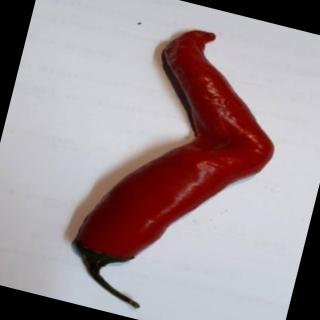Cabai Merah: (50, 11, 298, 320)
